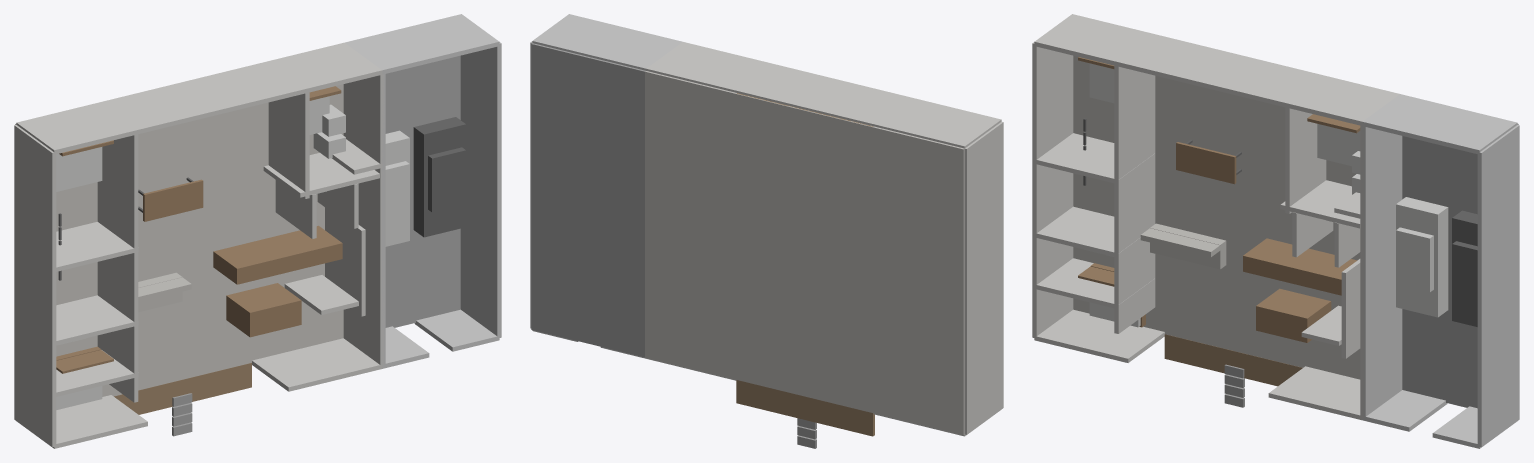
The model's file is floorplan.glb.
3 views of the same model, side by side, from view 1: azimuth 30°, elevation 25°; view 2: azimuth 150°, elevation 25°; view 3: azimuth 330°, elevation 25° (orthographic). The views are drawn at different scales.
Parts seen in each view (by area): view 1: Main floor, North wall, West wall, Garage floor, Garage east, Bedroom wing divider, East wall, Garage north, Kitchen counter, South wall R, car body_1, Bedroom 3 west wall (+27 smaller); view 2: Main floor, Garage floor, North wall, West wall, Garage north, Front porch, Garage east; view 3: Main floor, North wall, Garage east, Garage floor, Garage partition, Bedroom wing divider, West wall, Garage north, car body, South wall L, Kitchen counter, South wall R (+23 smaller).
Part boxes in pixels (<box>): Main floor: <box>15,84,343,396</box>; North wall: <box>16,42,382,154</box>; West wall: <box>14,125,56,447</box>; Garage floor: <box>385,55,460,327</box>; Garage east: <box>460,42,501,337</box>; Bedroom wing divider: <box>97,132,138,402</box>; East wall: <box>343,74,384,366</box>; Garage north: <box>345,14,499,74</box>; Kitchen counter: <box>213,225,342,284</box>; South wall R: <box>252,338,382,391</box>; car body_1: <box>413,117,465,237</box>; Bedroom 3 west wall: <box>268,92,309,198</box>; Main floor: <box>645,71,964,435</box>; Garage floor: <box>531,43,645,357</box>; North wall: <box>646,42,1001,148</box>; West wall: <box>964,121,1003,434</box>; Garage north: <box>532,14,682,70</box>; Front porch: <box>736,380,874,436</box>; Garage east: <box>530,41,532,328</box>; Main floor: <box>1073,55,1360,379</box>; North wall: <box>1034,14,1399,125</box>; Garage east: <box>1477,125,1519,447</box>; Garage floor: <box>1402,124,1518,408</box>; Garage partition: <box>1361,126,1402,418</box>; Bedroom wing divider: <box>1114,63,1155,333</box>; West wall: <box>1032,42,1073,338</box>; Garage north: <box>1362,94,1517,153</box>; car body: <box>1396,197,1448,317</box>; South wall L: <box>1034,309,1164,362</box>; Kitchen counter: <box>1243,238,1357,295</box>; South wall R: <box>1268,366,1362,420</box>.
Size of the model in its own units: 19.18 by 14.27 by 2.89.
